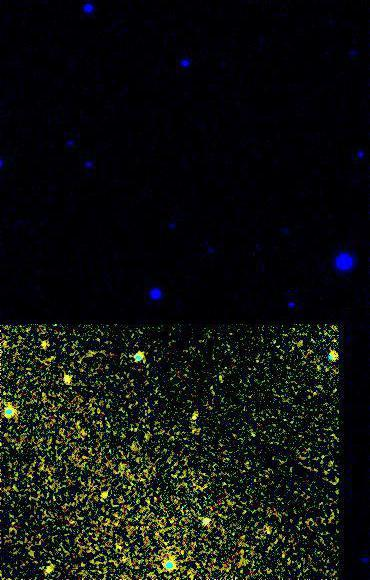star: (89, 480, 119, 510)
